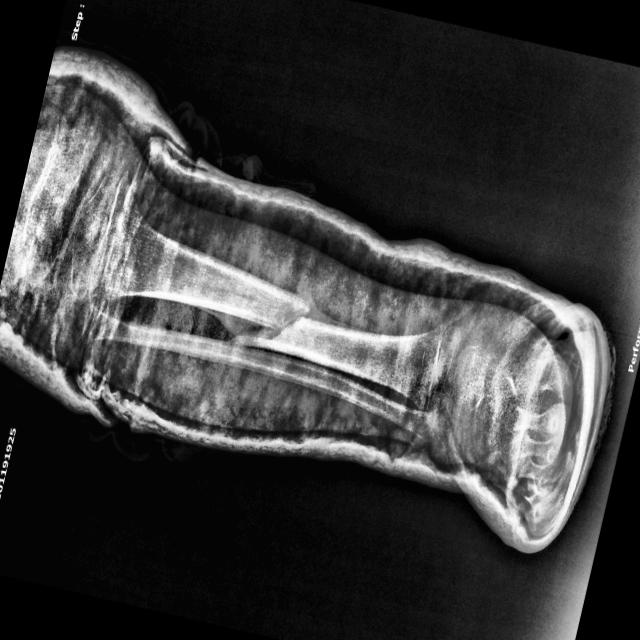Fracture: (222, 267, 326, 367)
